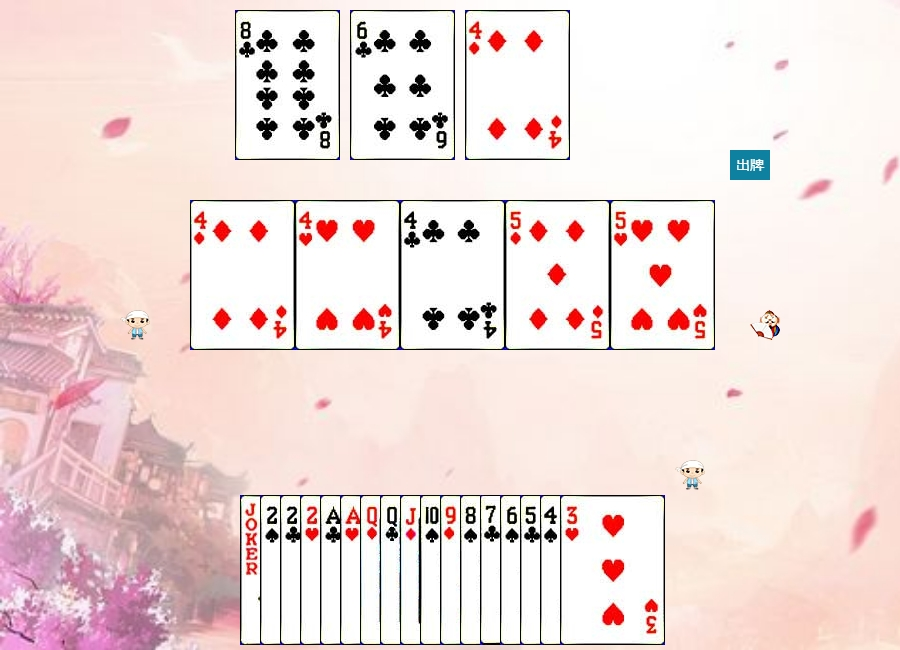10~4: (420, 495, 525, 645)
11~1: (400, 495, 505, 645)
12~1: (360, 495, 465, 645)
12~2: (380, 495, 485, 645)
14~2: (320, 495, 425, 645)
14~3: (340, 495, 445, 645)
15~2: (280, 495, 385, 645)
15~3: (300, 495, 405, 645)
15~4: (260, 495, 365, 645)
18~4: (240, 495, 345, 645)
3~3: (560, 495, 665, 645)
4~1: (465, 10, 570, 160), (190, 200, 295, 350)
4~2: (400, 200, 505, 350)
4~3: (295, 200, 400, 350)
4~4: (540, 495, 645, 645)
5~1: (505, 200, 610, 350)
5~2: (520, 495, 625, 645)
5~3: (610, 200, 715, 350)
6~2: (350, 10, 455, 160)
6~4: (500, 495, 605, 645)
7~2: (480, 495, 585, 645)
8~2: (235, 10, 340, 160)
8~4: (460, 495, 565, 645)
9~1: (440, 495, 545, 645)
